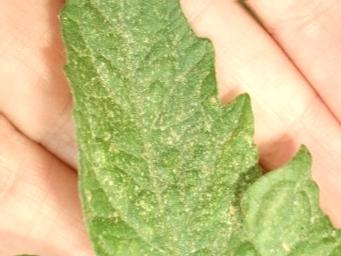Tomato mold leaf: (0, 0, 321, 256)
